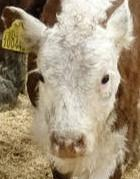muzzles: (43, 125, 94, 158)
